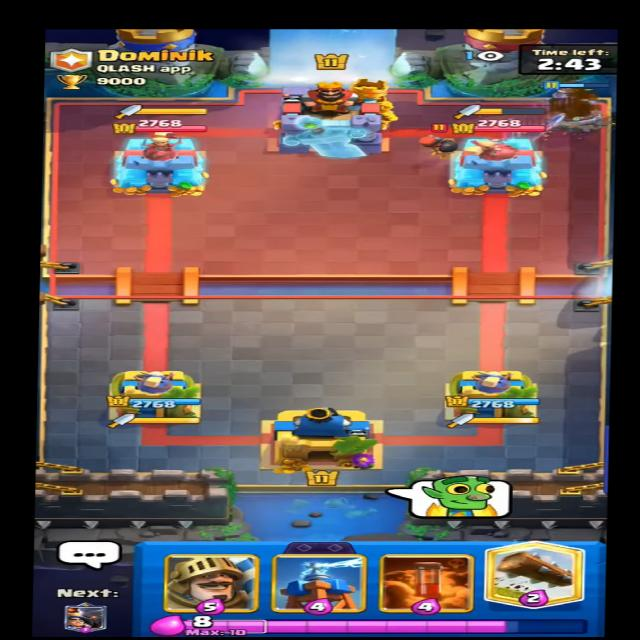bomber: (410, 120, 463, 162)
